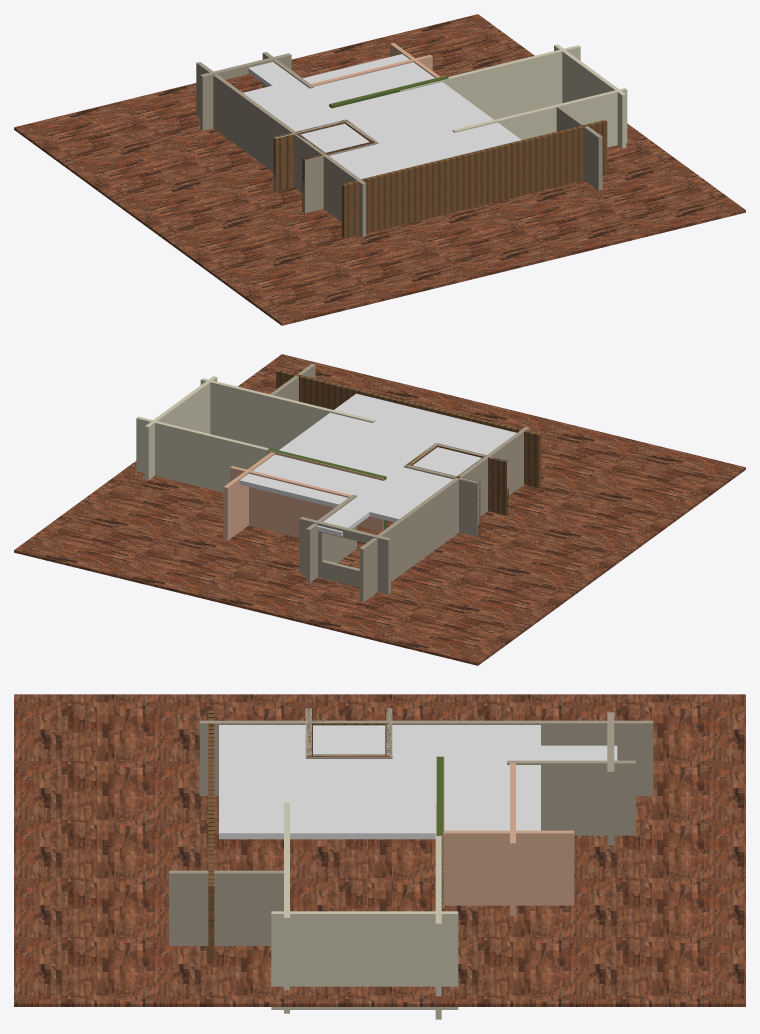
The model's file is IM_final_structure_3.fbx.
The picture shows the model from 3 angles, top to bottom: view 1: azimuth 30°, elevation 25°; view 2: azimuth 150°, elevation 25°; view 3: azimuth 270°, elevation 25°; orthographic projection. The views are drawn at different scales.
Visible parts, largest first — view 1: Plane, Plane.013, Plane.004, Plane.016, Plane.001, Plane.008, Plane.011, Plane.015, Plane.010, Plane.018, Plane.006, Plane.012 (+1 smaller); view 2: Plane, Plane.013, Plane.016, Plane.001, Plane.008, Plane.004, Plane.012, Plane.010, Plane.011, Plane.014, Plane.003, Plane.005 (+3 smaller); view 3: Plane, Plane.013, Plane.011, Plane.003, Plane.015, Plane.014, Plane.016, Plane.004, Plane.001, Plane.008, Plane.010, Plane.012 (+1 smaller).
Part boxes in pixels (x1,y1,x2,y2): Plane: (14,14,745,325); Plane.013: (243,54,521,179); Plane.004: (342,120,607,238); Plane.016: (196,62,366,237); Plane.001: (399,45,580,119); Plane.008: (452,88,627,147); Plane.011: (554,44,626,148); Plane.015: (556,106,602,190); Plane.010: (200,53,291,130); Plane.018: (273,120,346,191); Plane.006: (302,143,375,213); Plane.012: (311,54,432,86); Plane: (14,354,745,665); Plane.013: (239,393,516,536); Plane.016: (359,426,529,602); Plane.001: (136,416,268,492); Plane.008: (200,378,375,450); Plane.004: (276,369,541,488); Plane.012: (230,466,351,537); Plane.010: (299,517,390,594); Plane.011: (145,376,217,480); Plane.014: (306,494,356,582); Plane.003: (223,452,274,540); Plane.005: (407,465,479,536); Plane: (14,694,745,1006); Plane.013: (219,725,617,839); Plane.011: (271,911,458,1009); Plane.003: (444,830,574,905); Plane.015: (169,870,284,945); Plane.014: (507,760,635,835); Plane.016: (199,720,653,795); Plane.004: (208,710,214,958); Plane.001: (435,803,441,1019); Plane.008: (284,803,289,1013); Plane.010: (607,712,614,845); Plane.012: (510,763,515,915).
Bounding box in the file's own units: 8290 × 1587 × 8290.
